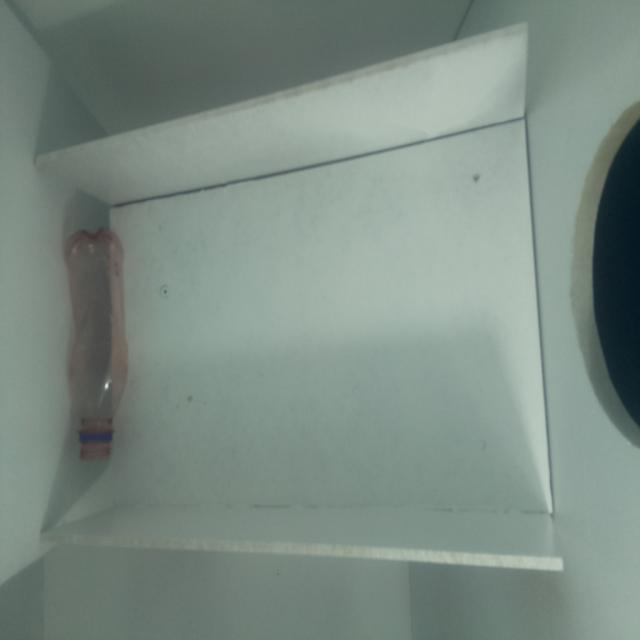Anorganik: (60, 218, 139, 470)
